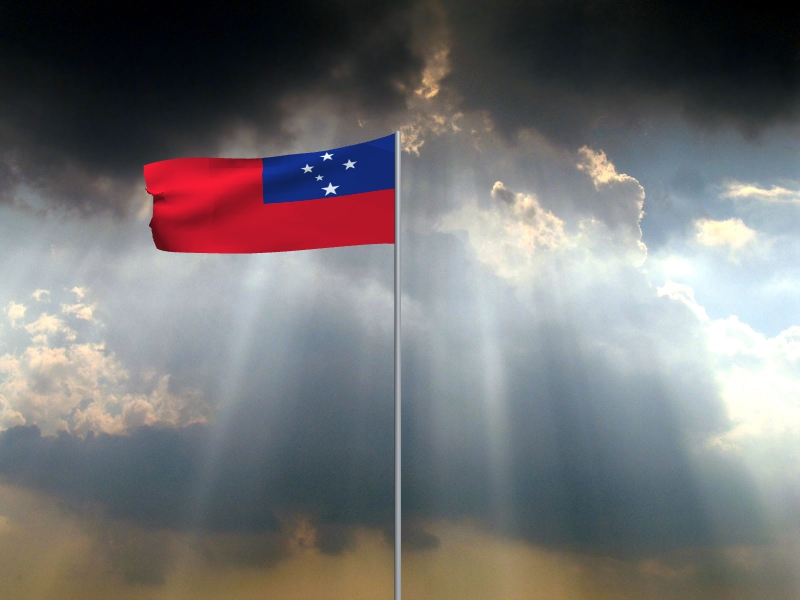ws: (144, 133, 395, 255)
